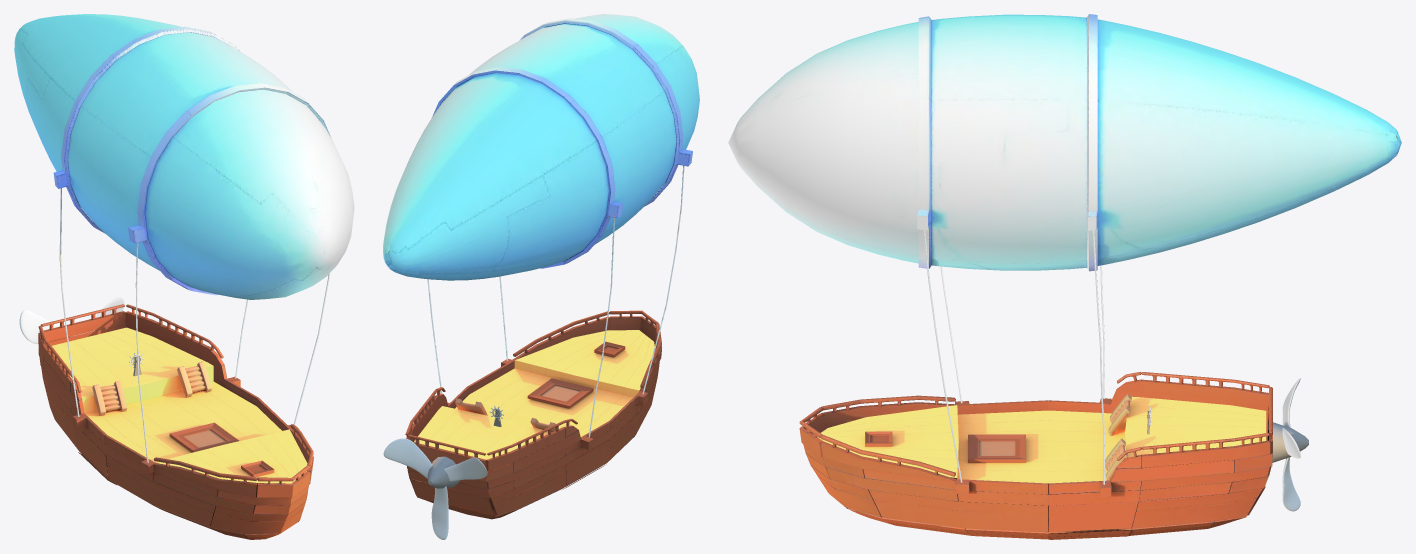
Rendered from airship.glb.
3 renders of one model, left to right at view 1: azimuth 30°, elevation 25°; view 2: azimuth 150°, elevation 25°; view 3: azimuth 270°, elevation 25°, orthographic. The views are drawn at different scales.
Visible parts, largest first — view 1: balloon.002, ship_deck.007, ship_body.007, balloon_ring.001, propeller_main.003; view 2: balloon.002, ship_body.007, ship_deck.007, balloon_ring.001, propeller_main.003; view 3: balloon.002, ship_body.007, ship_deck.007, balloon_ring.001, propeller_main.003.
Part boxes in pixels (box(x1,y1,x2,y2)): balloon.002: box(14, 14, 354, 299); ship_deck.007: box(52, 327, 307, 483); ship_body.007: box(38, 304, 313, 539); balloon_ring.001: box(53, 26, 330, 463); propeller_main.003: box(19, 297, 124, 344); balloon.002: box(383, 14, 699, 280); ship_body.007: box(405, 310, 661, 519); ship_deck.007: box(414, 330, 654, 459); balloon_ring.001: box(427, 18, 692, 438); propeller_main.003: box(383, 438, 487, 539); balloon.002: box(728, 14, 1401, 270); ship_body.007: box(799, 372, 1272, 539); ship_deck.007: box(817, 393, 1266, 483); balloon_ring.001: box(917, 14, 1104, 484); propeller_main.003: box(1272, 378, 1308, 511).
Bounding box in the file's own units: 3.35 × 6.5 × 8.08.
Materials: 4 (4 with a texture image).
